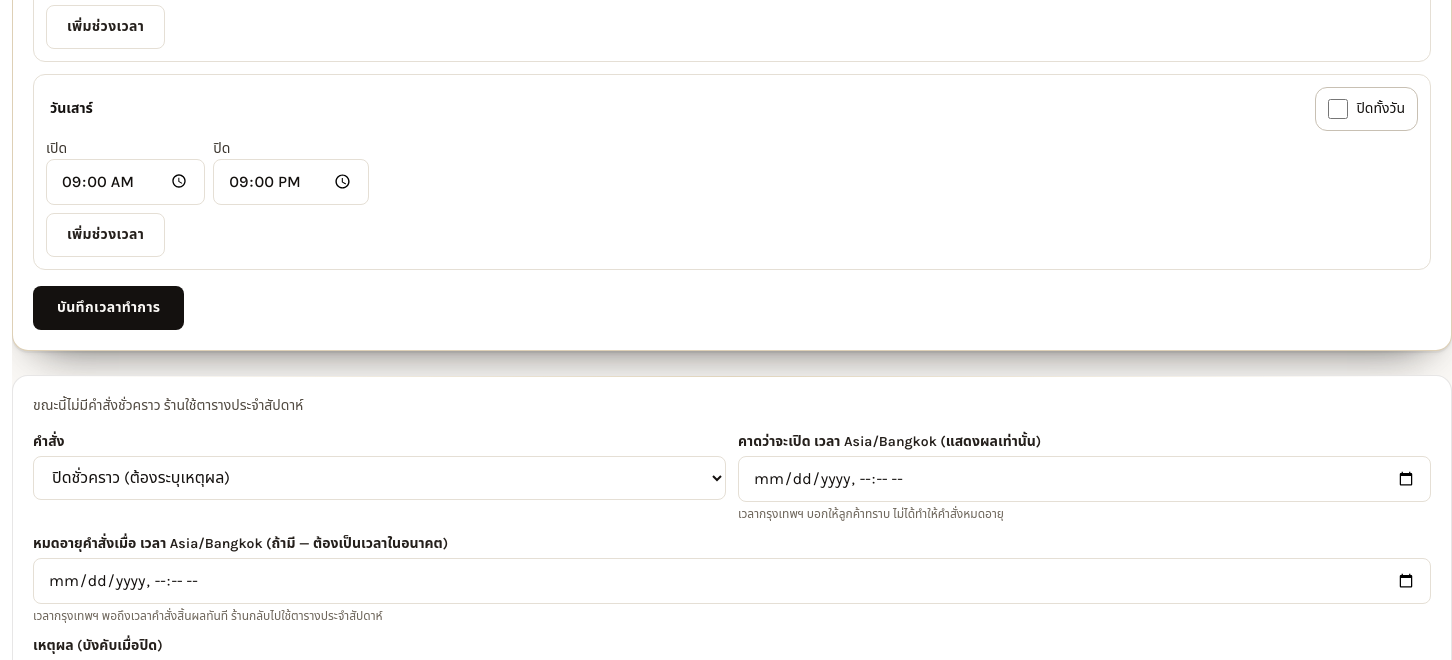
Test: หน้าจัดการร้าน (Owner/Admin) › บันทึกสำเร็จแสดงข้อความสำเร็จ
(page scrolled)
Click the button "บันทึกเวลาทำการ". click: click(109, 308)
box: top-left (33, 286), bottom-right (184, 330)
(page scrolled)
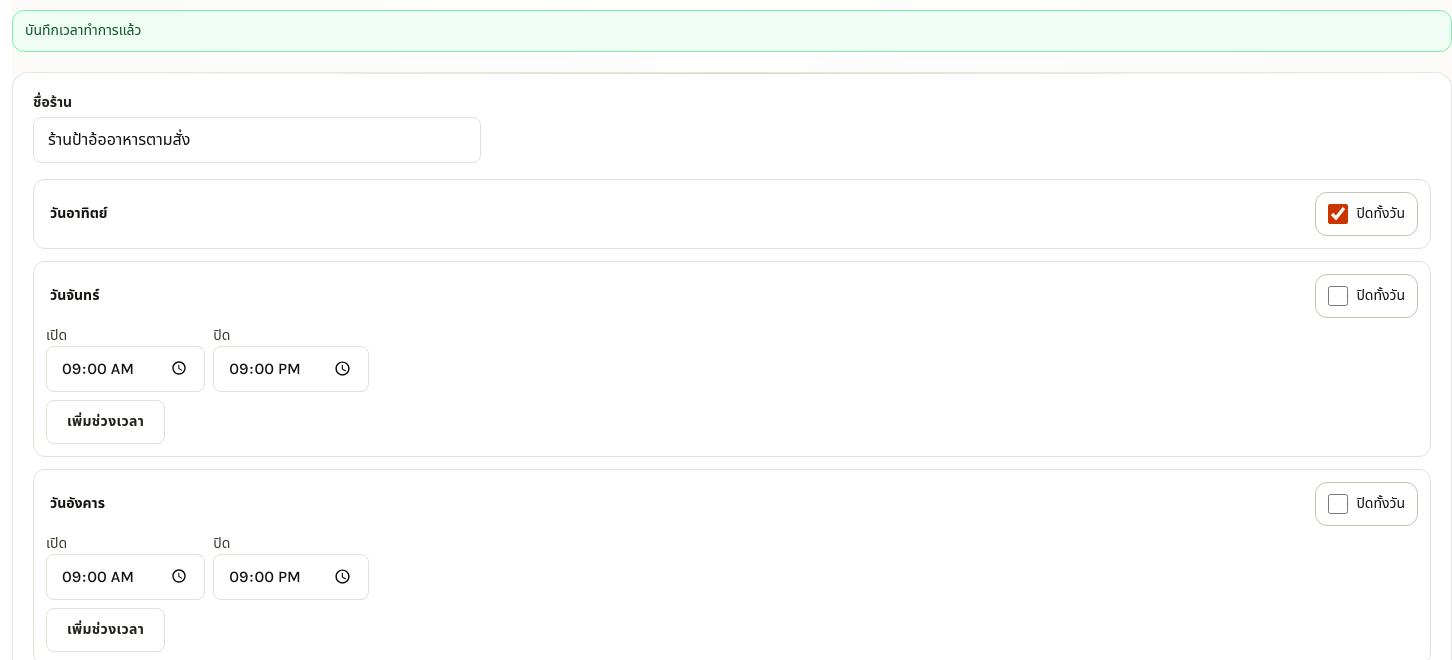
Expected: the message reads "บันทึกเวลาทำการแล้ว", top-left (25, 22), bottom-right (141, 38)
